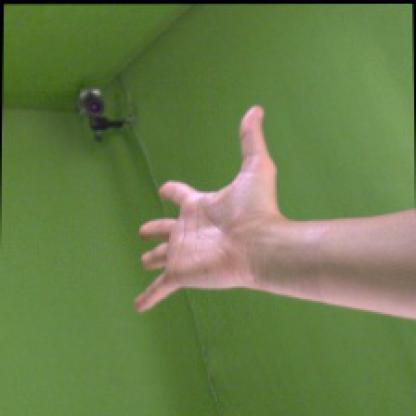Hand: (133, 105, 292, 315)
